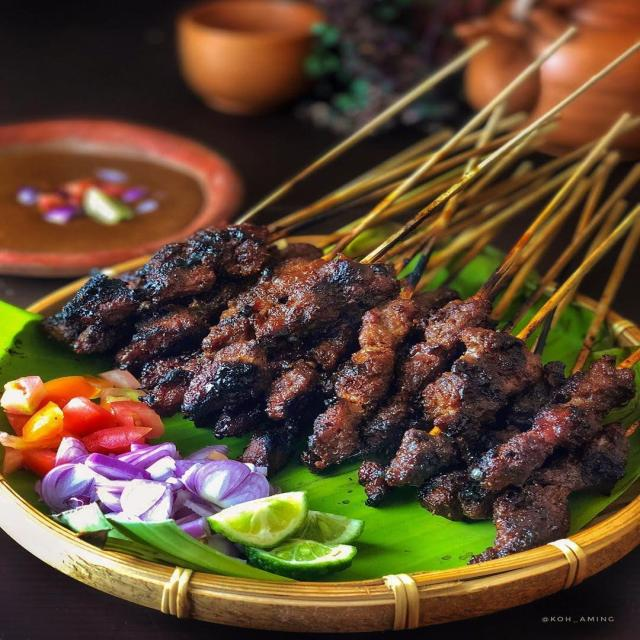Sate: (175, 105, 615, 524)
